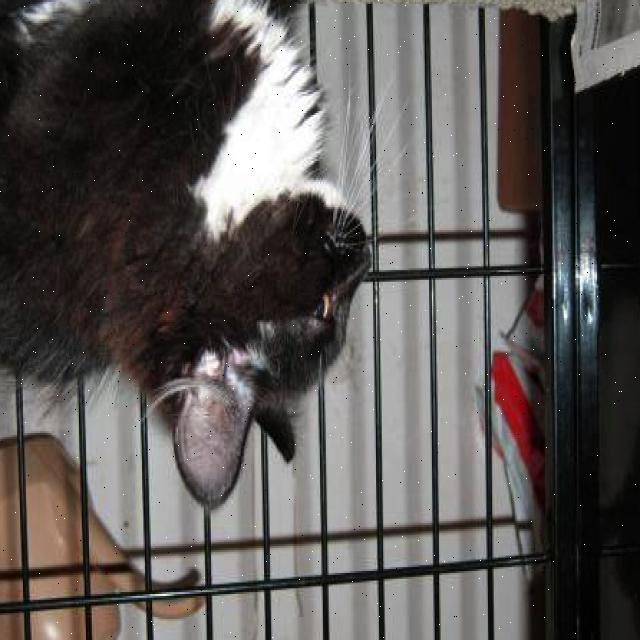Cat: (137, 178, 385, 487)
